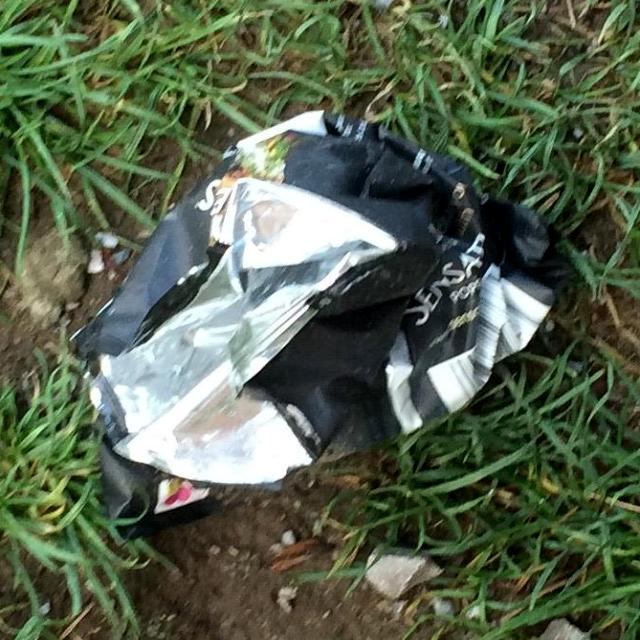Trash: (59, 88, 590, 551)
